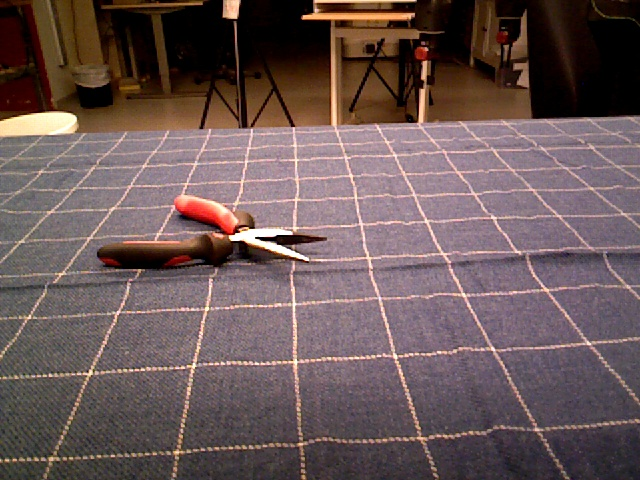plier1: (98, 194, 333, 270)
